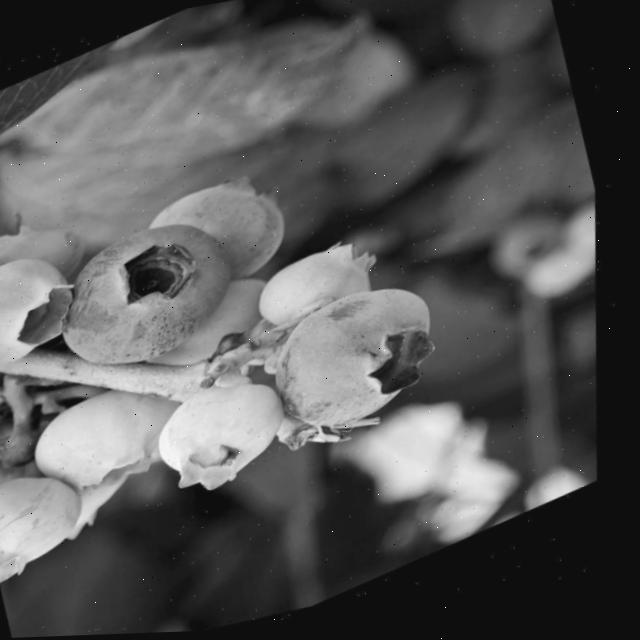RipeBlueBerry: (39, 198, 267, 398)
Semi-RipeBlueBerry: (261, 266, 477, 461)
UnripeBlueBerry: (149, 362, 321, 514), (24, 371, 197, 522), (0, 236, 102, 379)
